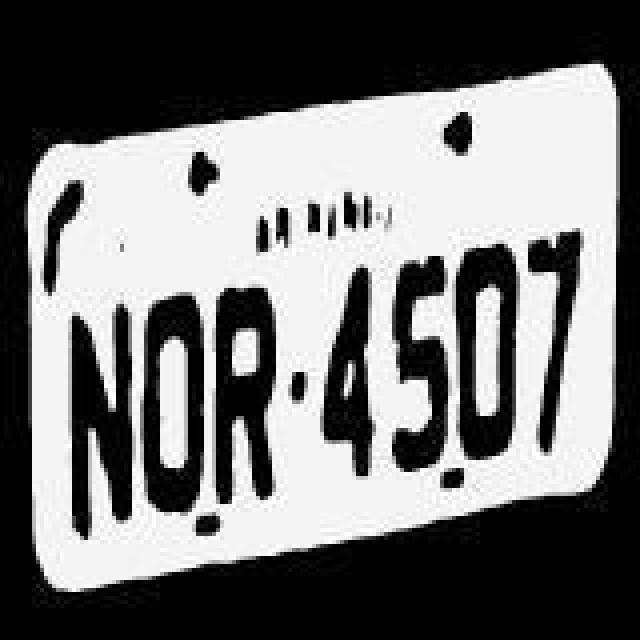4: (306, 252, 382, 516)
5: (380, 244, 452, 484)
7: (520, 208, 592, 472)
N: (62, 288, 138, 544)
O: (140, 276, 212, 524), (452, 230, 524, 466)
R: (210, 258, 286, 510)
